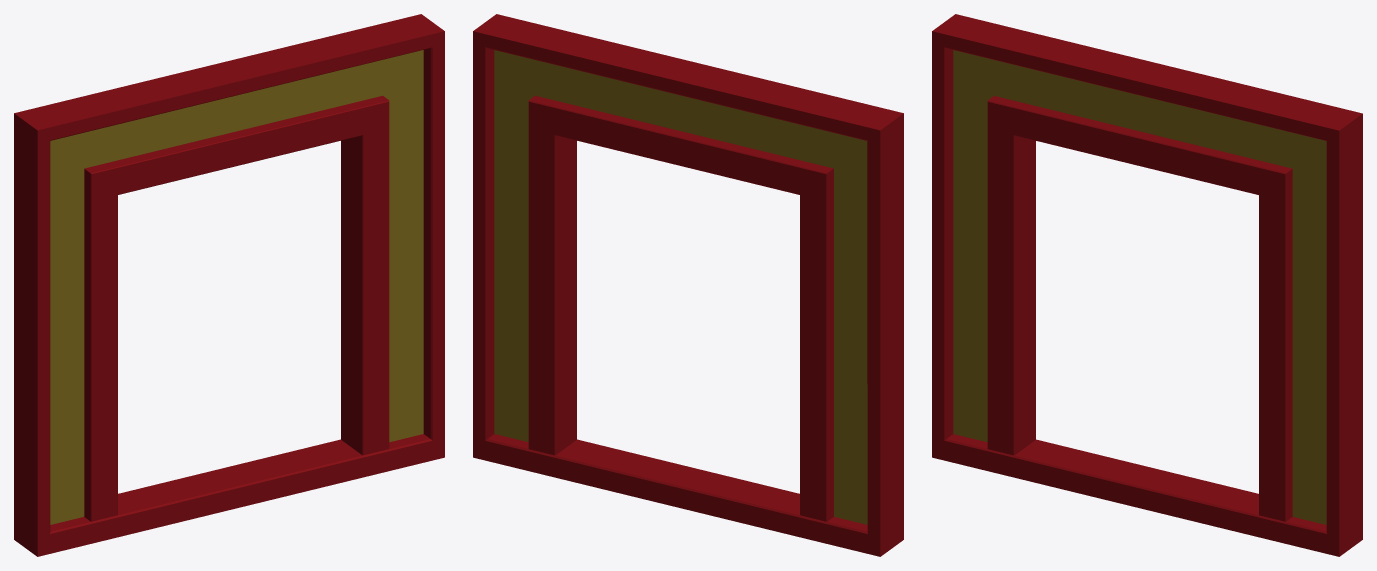
The model's file is SM_MH_01_Plaster_Wall_Door_01.fbx.
The picture shows the model from 3 angles, left to right: view 1: azimuth 30°, elevation 25°; view 2: azimuth 150°, elevation 25°; view 3: azimuth 330°, elevation 25°; orthographic projection.
Visible parts, largest first — view 1: SM_MH_01_Plaster_Wall_Door_01_LOD0; view 2: SM_MH_01_Plaster_Wall_Door_01_LOD0; view 3: SM_MH_01_Plaster_Wall_Door_01_LOD0.
Part boxes in pixels (bbox=[...]): SM_MH_01_Plaster_Wall_Door_01_LOD0: bbox=[14, 14, 444, 556]; SM_MH_01_Plaster_Wall_Door_01_LOD0: bbox=[473, 14, 903, 556]; SM_MH_01_Plaster_Wall_Door_01_LOD0: bbox=[932, 14, 1362, 556].
Size of what is drawn, in the model's own units: 300 by 300 by 30.
